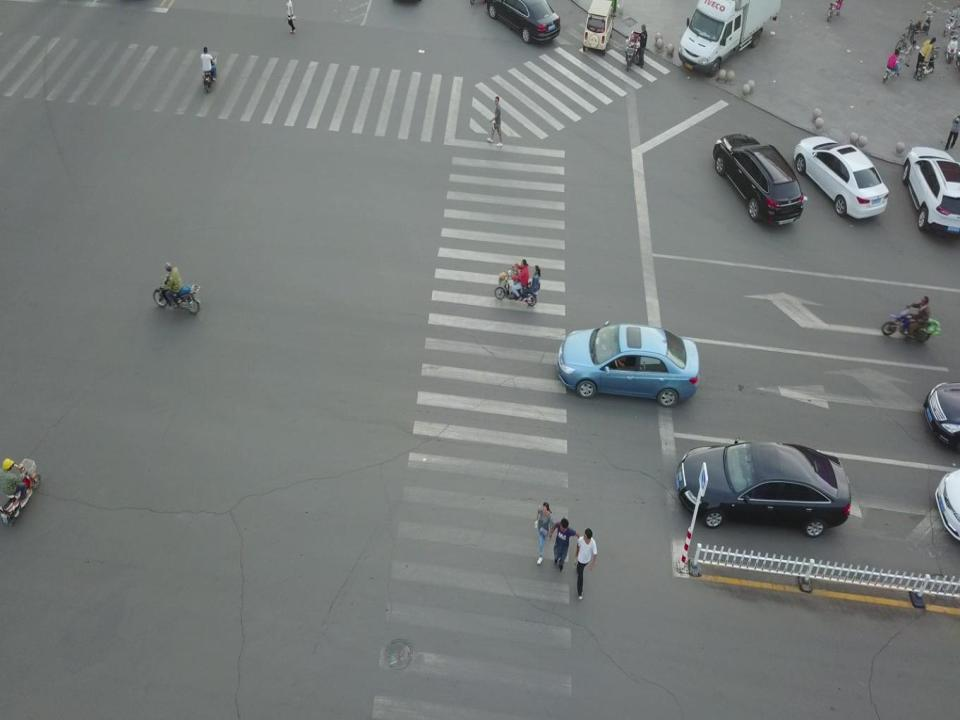car: (676, 438, 852, 538), (556, 320, 700, 408), (712, 133, 804, 226), (794, 136, 890, 220), (902, 146, 960, 236), (486, 0, 560, 44), (923, 381, 960, 455)
truck: (678, 0, 782, 78)
